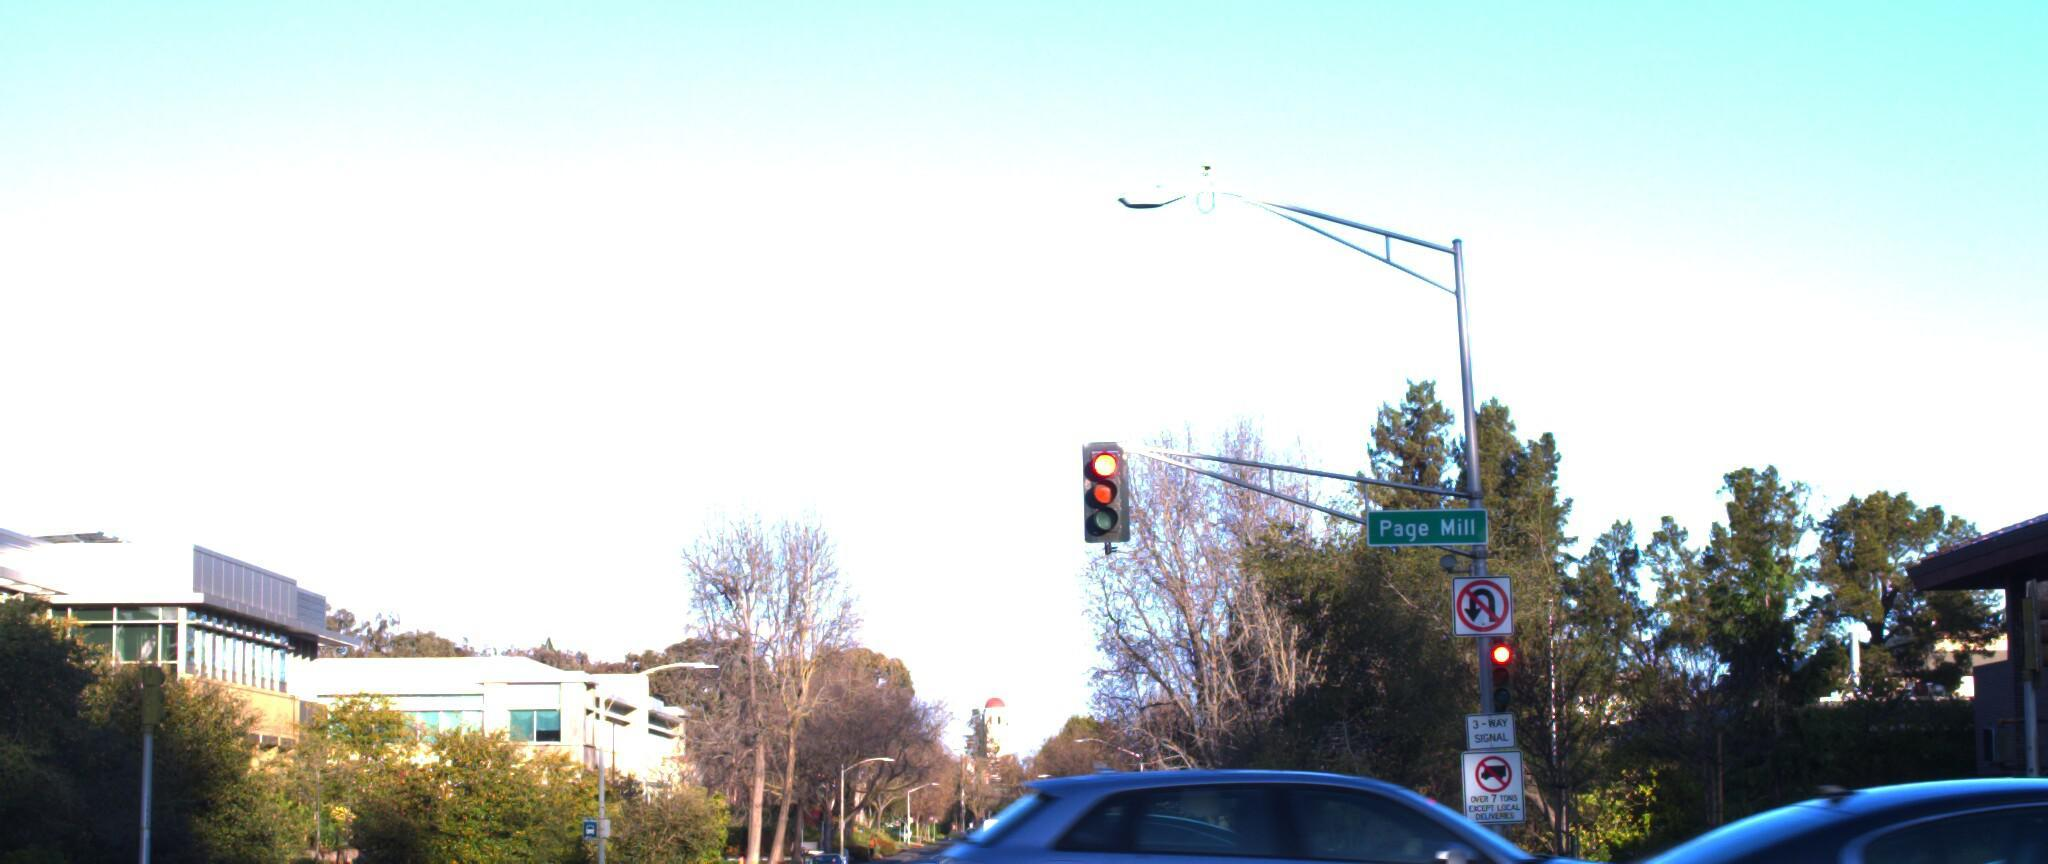car: (903, 762, 1754, 864), (772, 790, 1341, 864), (1479, 794, 2048, 864), (1873, 778, 2048, 864)
